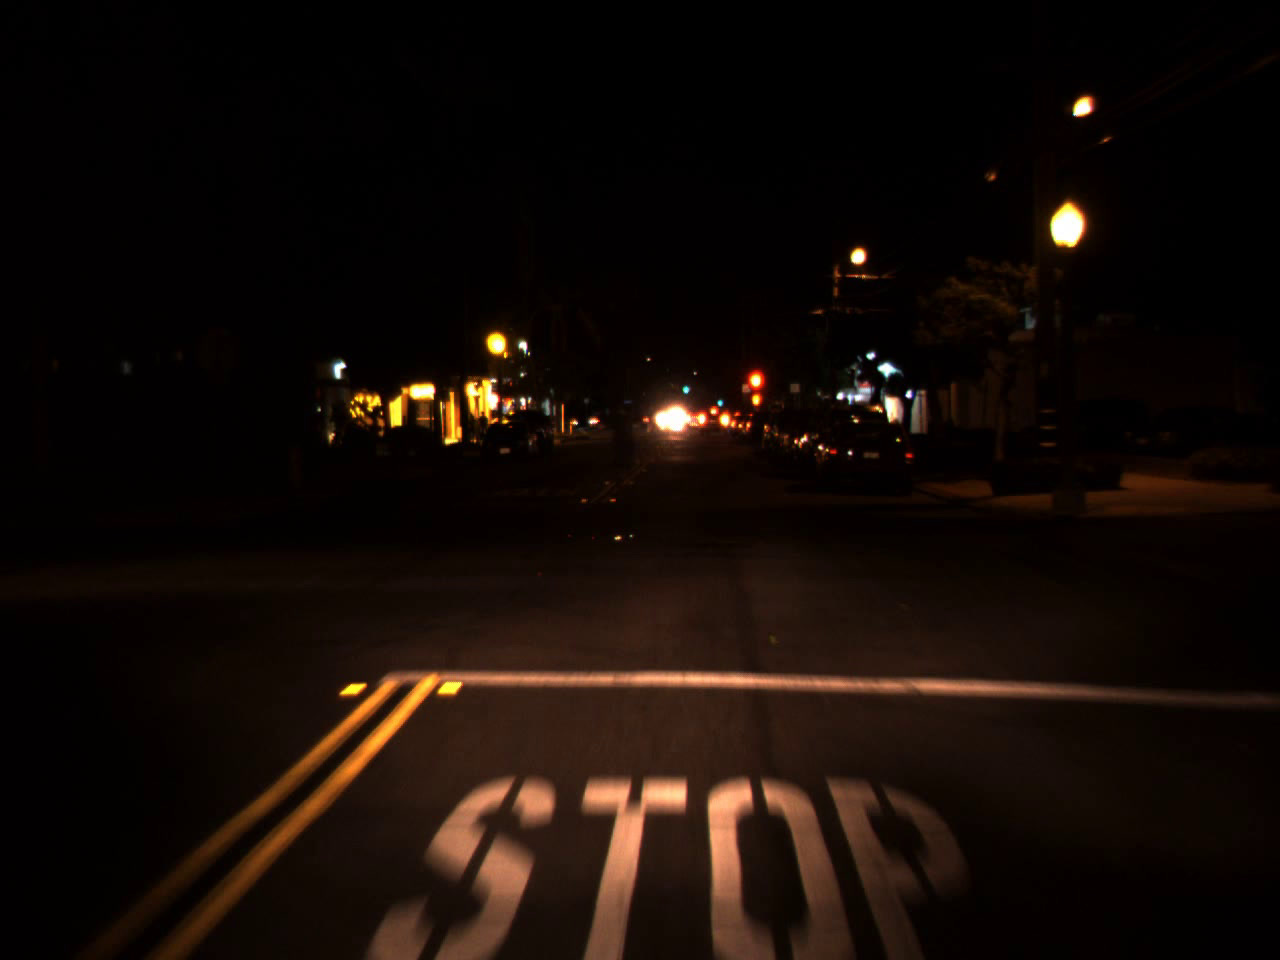go: (682, 378, 689, 396), (716, 391, 723, 409)
stop: (741, 366, 768, 417)
